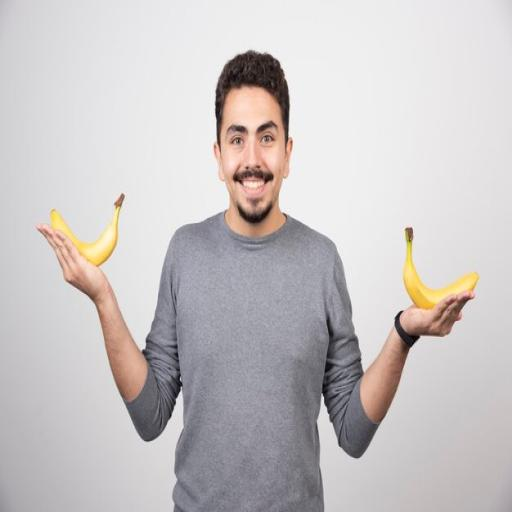banana: (404, 227, 478, 308), (51, 194, 124, 265)
